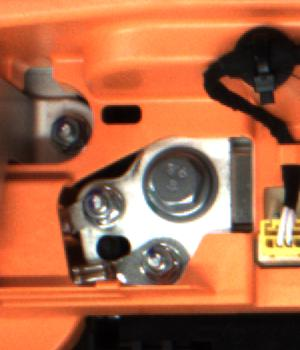nut_b: (139, 142, 223, 227)
screw_s: (134, 240, 178, 279), (80, 184, 119, 227), (47, 110, 80, 152)
